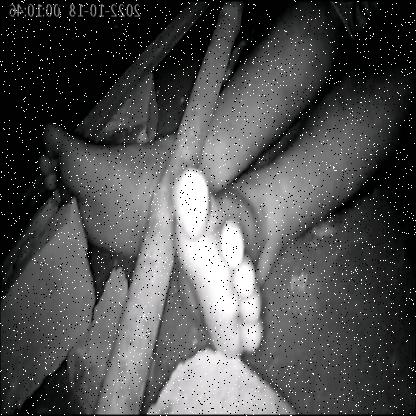leg: (156, 164, 405, 363), (23, 112, 172, 260)
